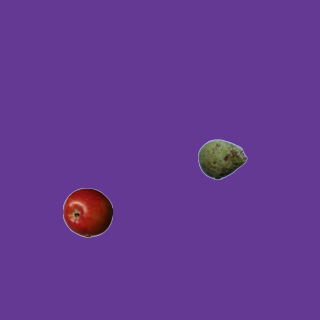Apple Braeburn: (62, 187, 112, 237)
Pear Stone: (197, 134, 247, 184)
